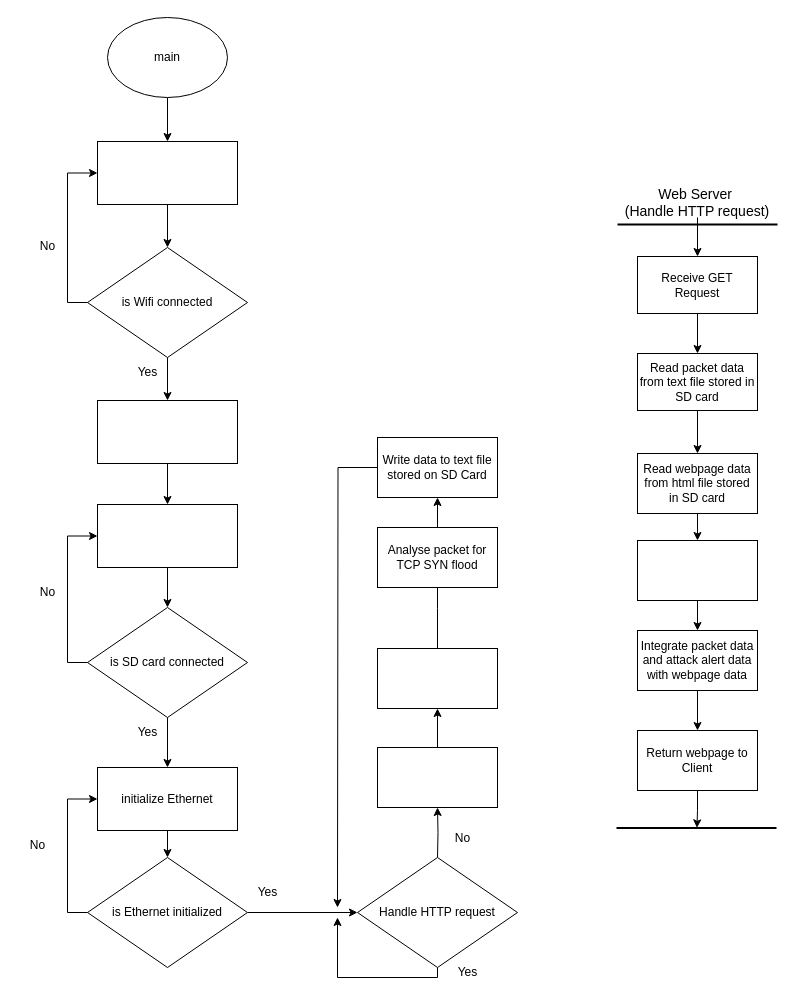
The diagram is 795 pixels wide and 1005 high, and some of its shapes have lost their labels. Here are the shapes that lost their labels. From the top down, the box of each, then its label:
(96, 140, 238, 204): Initialize Wifi
(96, 400, 238, 464): Initialize Web Server
(96, 504, 238, 568): Initialize SD card
(636, 540, 758, 600): Read attack alert data from text file store in SD card
(376, 648, 498, 708): Parse into packet format
(376, 746, 498, 808): Read raw data from Ethernet
